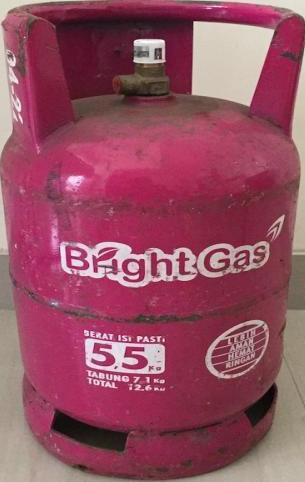cylinder: (1, 1, 305, 482)
